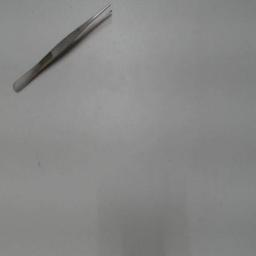Gillies Toothed Dissector: (8, 4, 120, 96)
